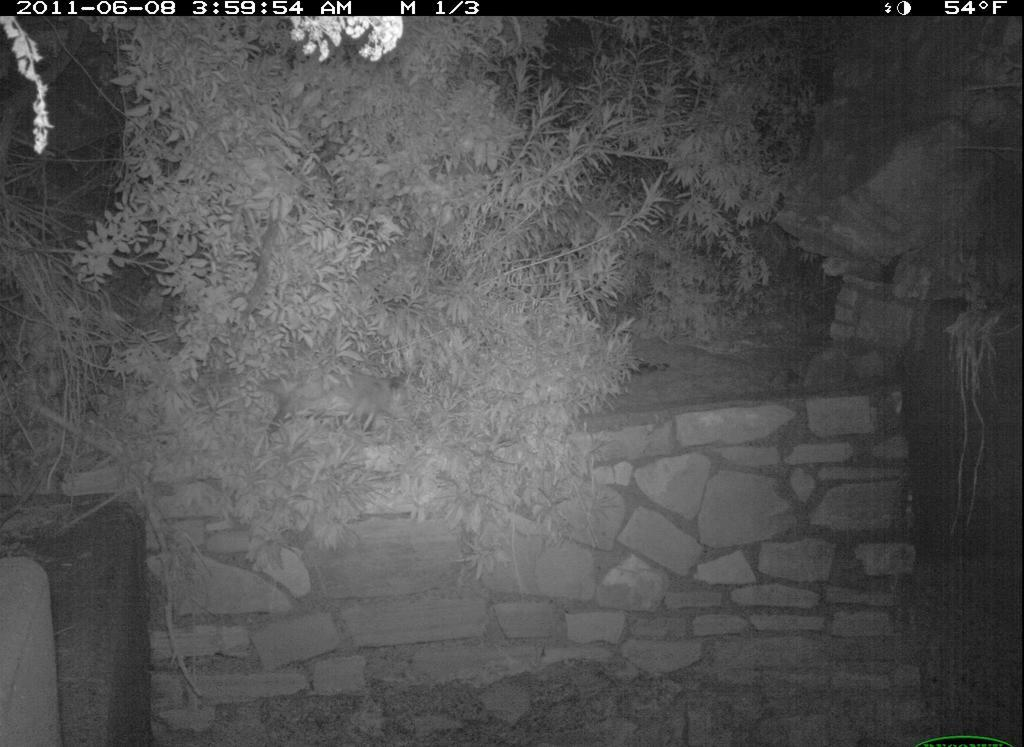opossum: (251, 369, 414, 440)
